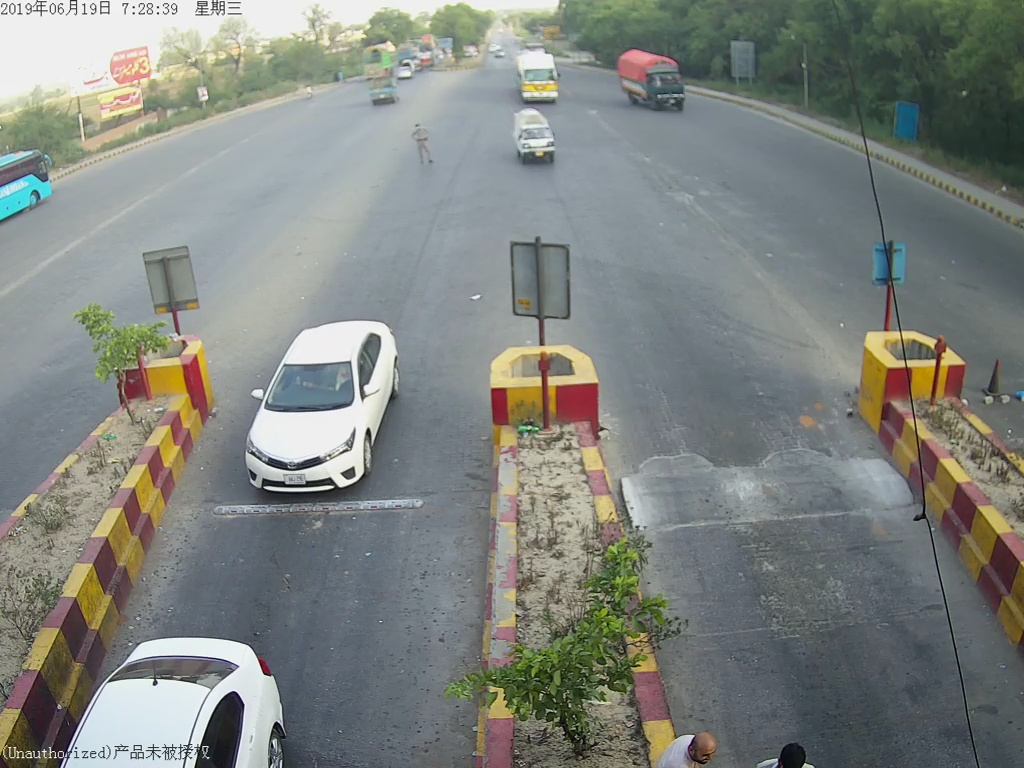Cat-1: (233, 322, 422, 498), (512, 105, 564, 166)
